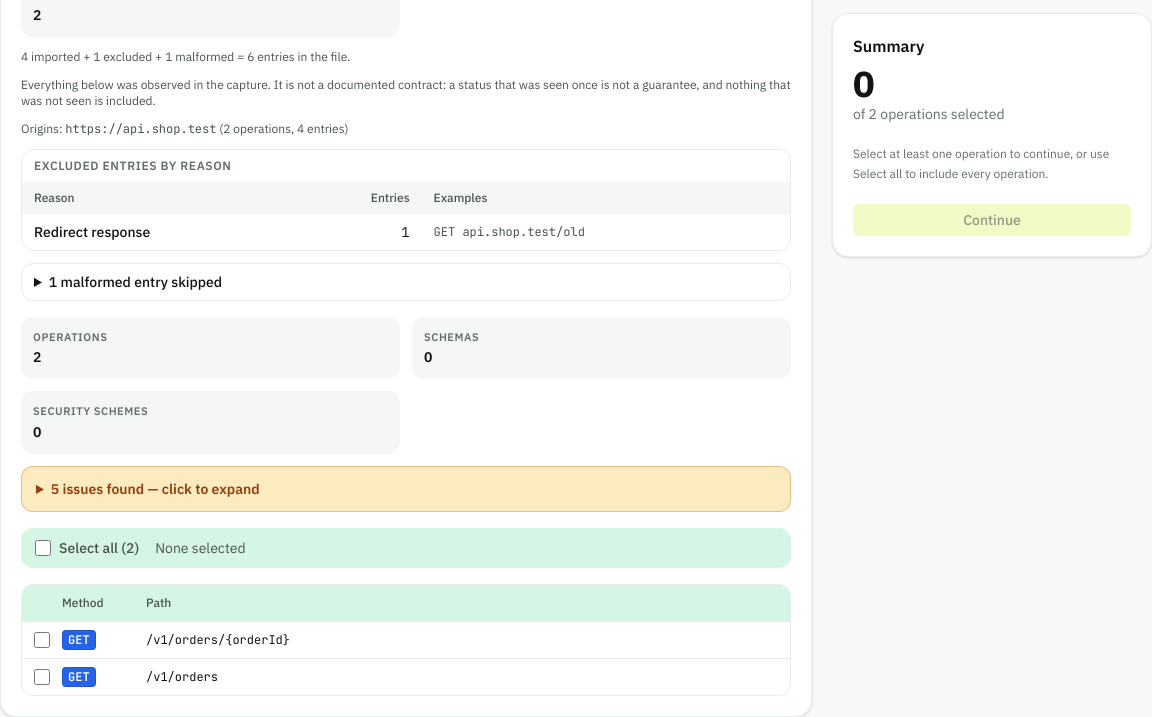
Scenario: ApiReviewStage for a HAR-derived model (specs/056 US3) › labels each parameter, status and path decision by origin with its observation count
(page scrolled)
Step 1. Click the button "GET /v1/orders/{orderId}" → (79, 640), box [62,622,790,658]
(page scrolled)
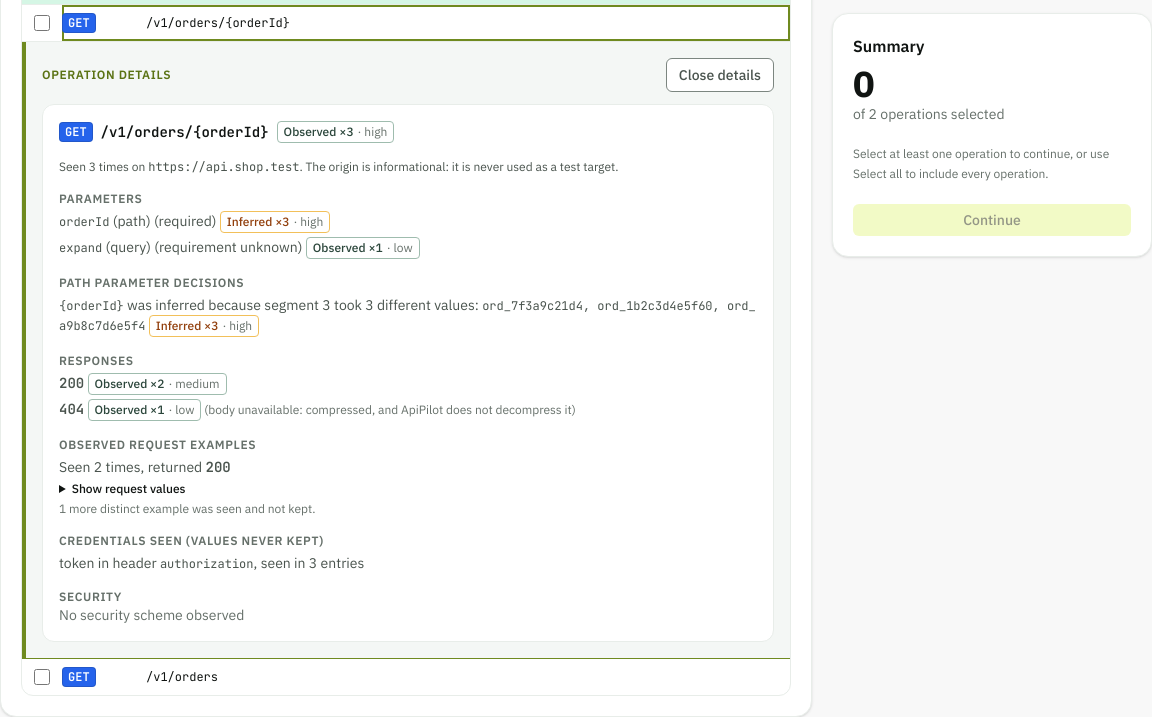
Now the element with test id "operation-detail" shows "(requirement unknown)", box [151,238,302,256]
Now the element with test id "operation-detail" shows "orderId} was inferred because segment 3 took 3 different values", box [42,104,774,642]
Now the element with test id "operation-detail" shows "ord_7f3a9c21d4, ord_1b2c3d4e5f60, ord_a9b8c7d6e5f4", box [59,298,756,334]
